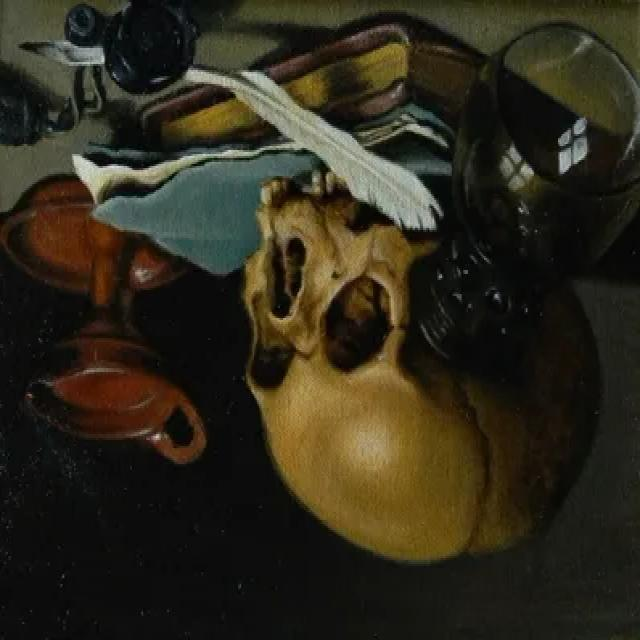skull: (240, 193, 602, 576)
